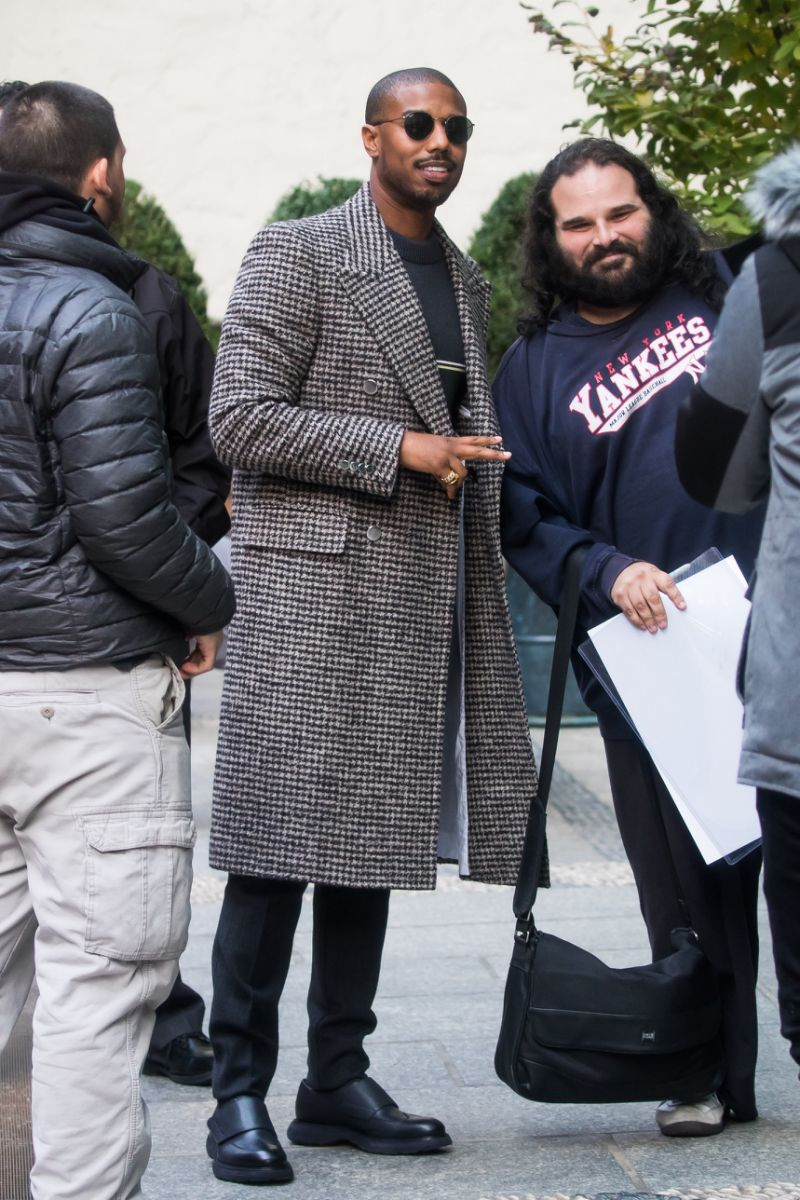Person: (212, 72, 512, 1188), (528, 140, 800, 1108), (12, 48, 188, 1176)
